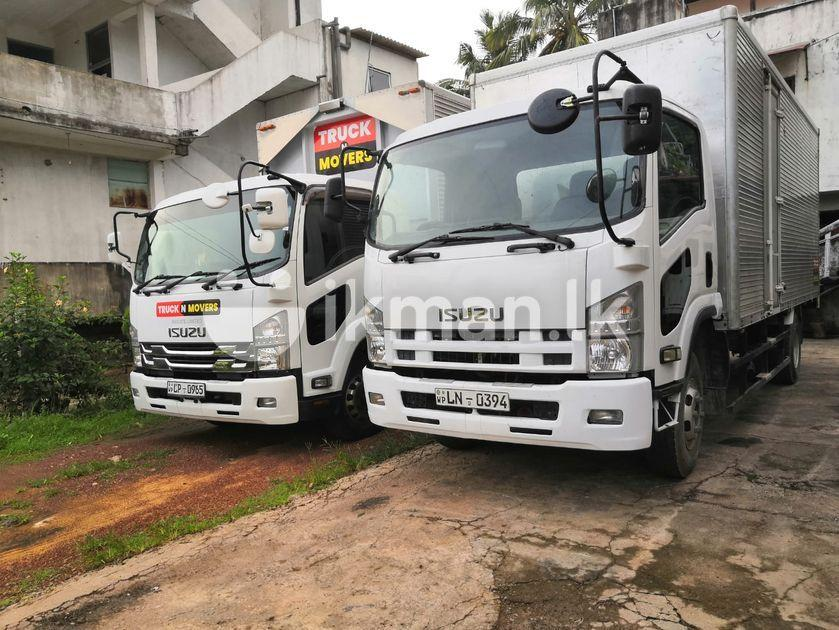truck: (323, 5, 820, 482), (106, 80, 475, 442)
